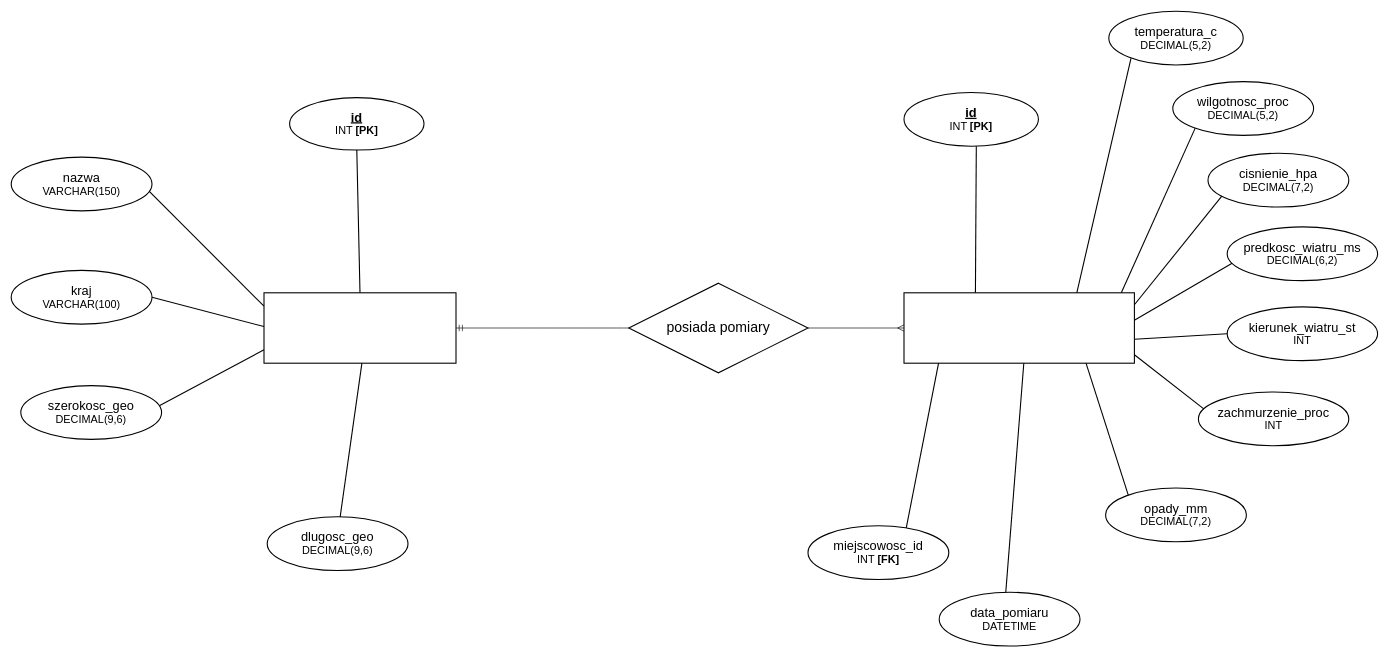
The diagram is 1389 pixels wide and 658 high, and some of its shapes have lost their labels. The shapes that lost their labels are listed below. From the top down, each one's centre as x and y in pixels, then its label:
At pixel 359 327: "Miejscowosc".
At pixel 1019 327: "PomiarMeteorologiczny".
